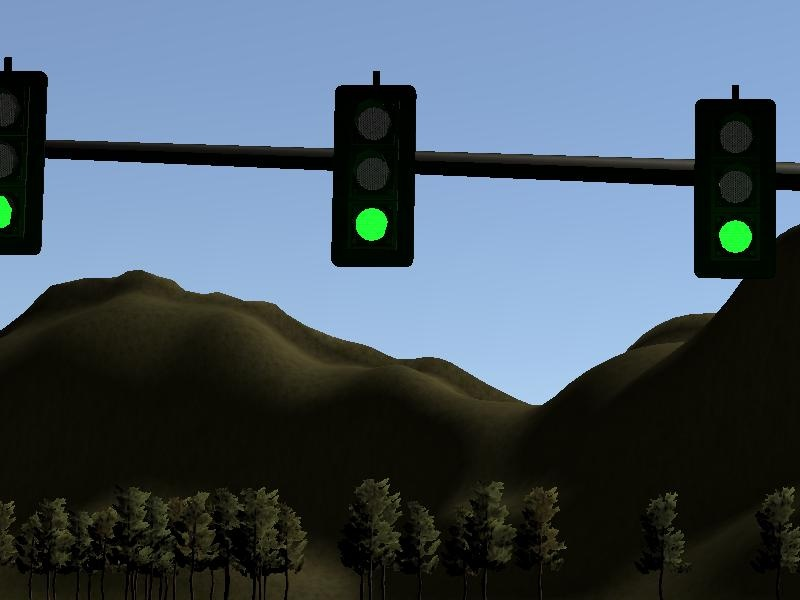GREEN: (688, 95, 783, 281), (332, 84, 415, 270)
